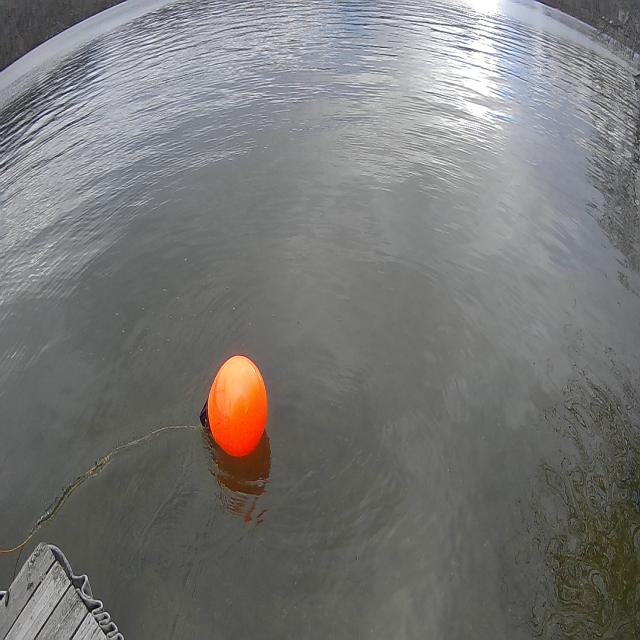Buoy: (200, 348, 272, 464)
